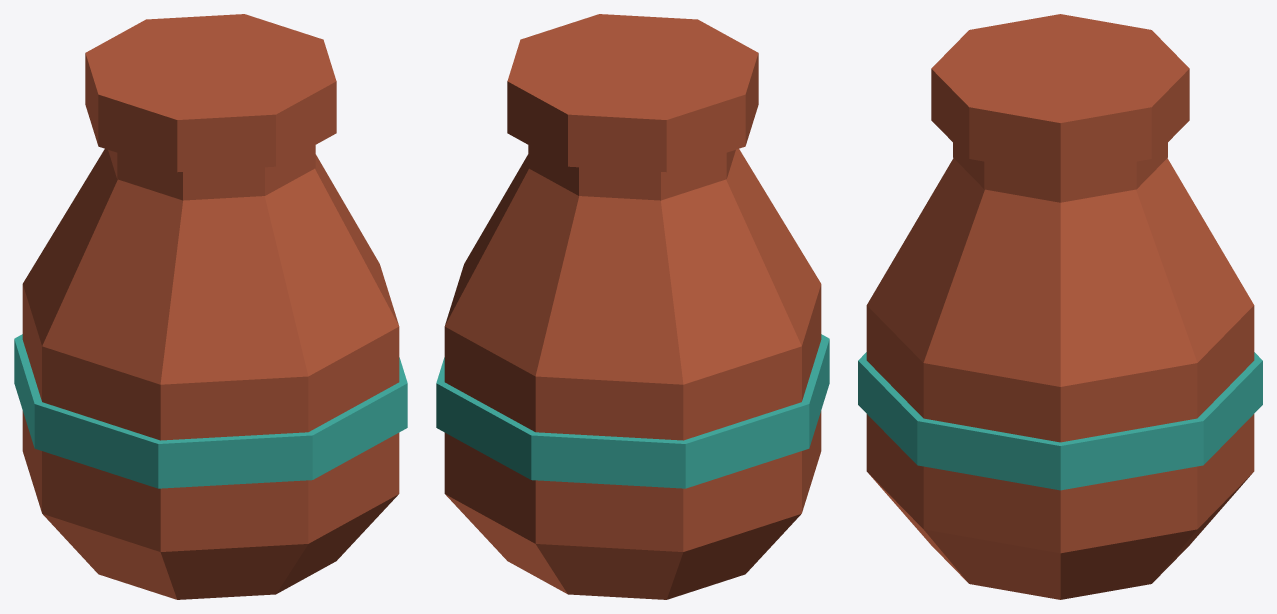
Rendered from env_r5_clay_pot.glb.
3 views of the same model, side by side, from view 1: azimuth 30°, elevation 25°; view 2: azimuth 150°, elevation 25°; view 3: azimuth 270°, elevation 25° (orthographic).
Parts seen in each view (by area): view 1: env_r5_clay_pot; view 2: env_r5_clay_pot; view 3: env_r5_clay_pot.
Boxes of the visible parts, x1,y1,x2,y2 form: env_r5_clay_pot: (14, 14, 407, 599); env_r5_clay_pot: (436, 14, 829, 599); env_r5_clay_pot: (858, 14, 1262, 599).
Bounding box in the file's own units: 1 × 1.3 × 1.
Materials: 1 (1 with a texture image).
